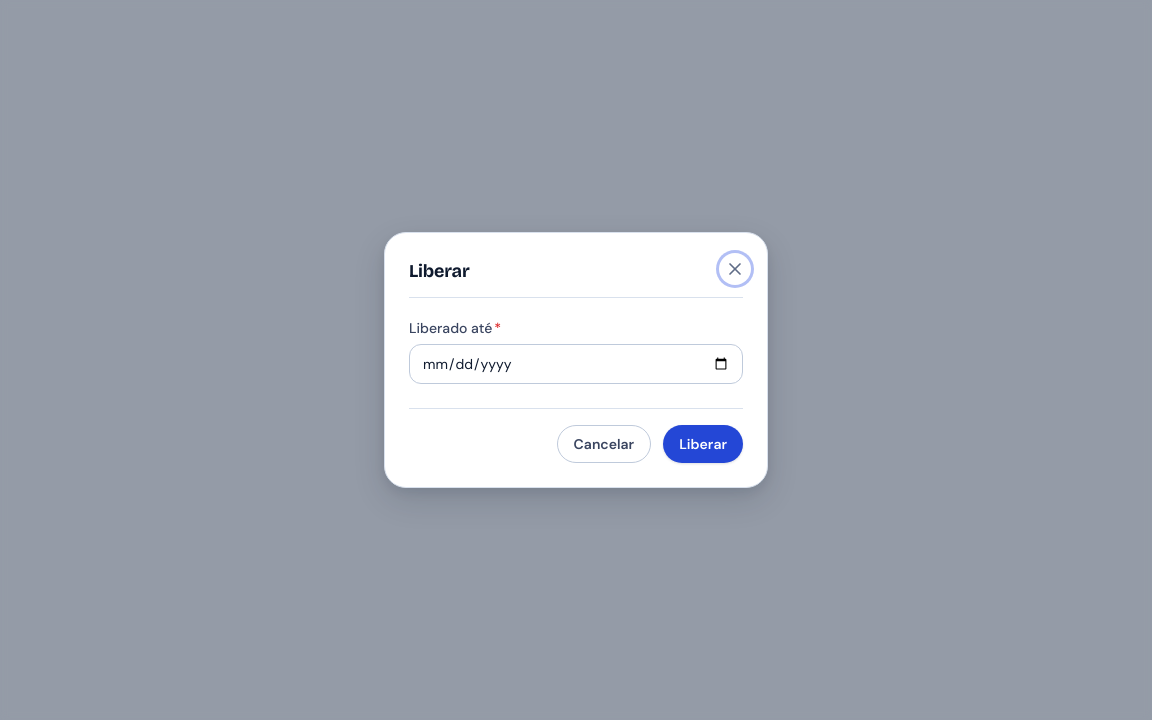
Test: PromptModal › asks for a date when it is a date prompt
Click the button "Liberar" at (703, 444), box [663, 425, 743, 463]
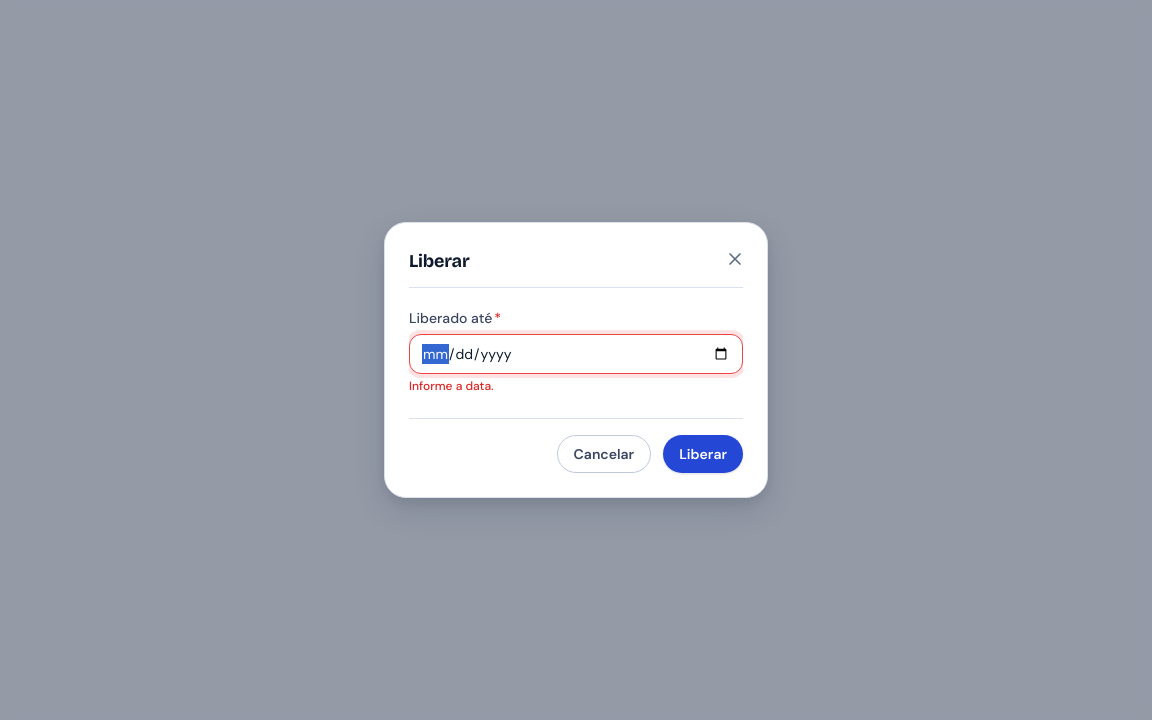
expect the text "Informe a data." is shown: met, box [409, 378, 494, 394]
